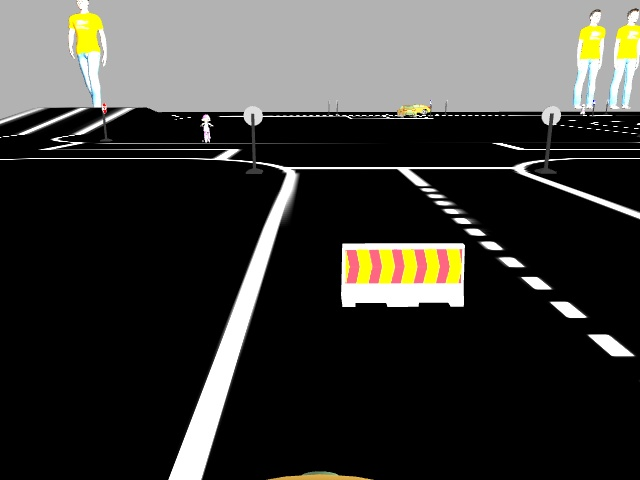ClosedRoadStand: (343, 242, 464, 306)
